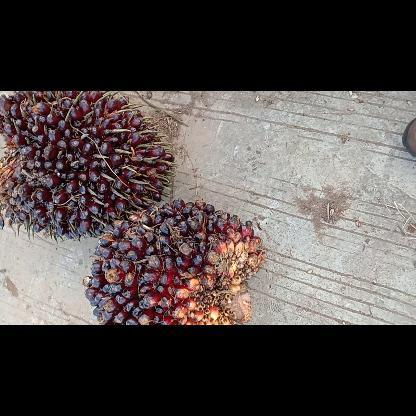TBS mentah: (0, 91, 174, 241), (82, 198, 266, 324)
